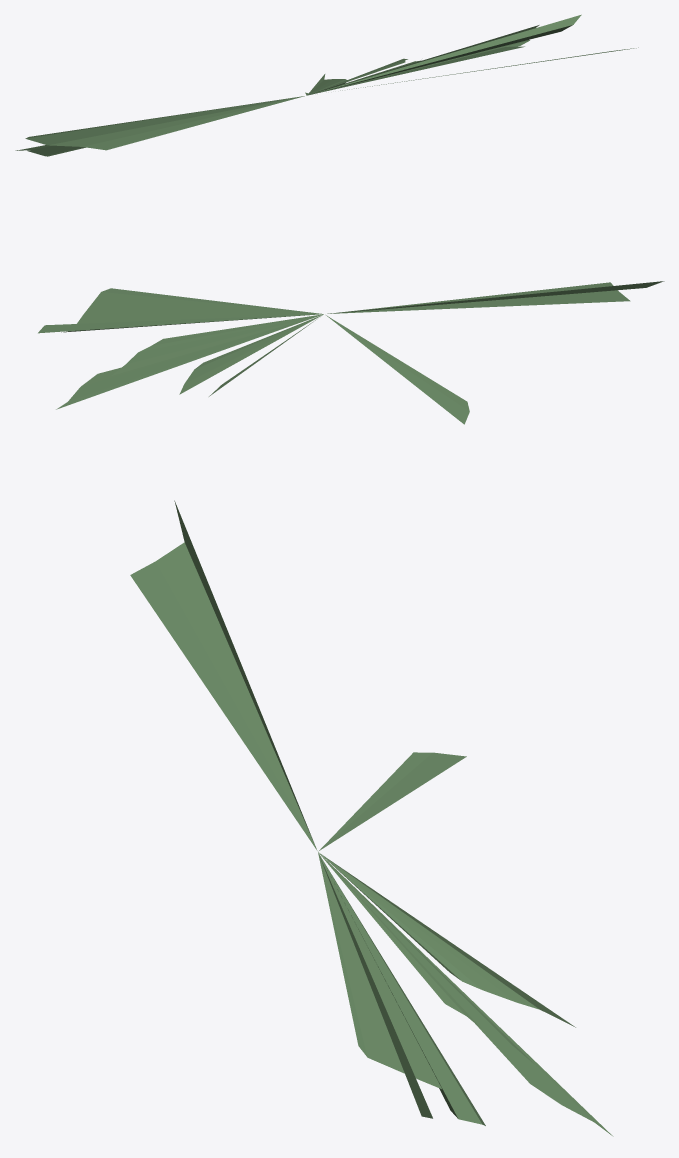
The model's file is c_1670_17835_forest.glb.
3 renders of one model, top to bottom at view 1: azimuth 30°, elevation 25°; view 2: azimuth 150°, elevation 25°; view 3: azimuth 270°, elevation 25°, orthographic. The views are drawn at different scales.
Visible parts, largest first — view 1: geometry_0; view 2: geometry_0; view 3: geometry_0.
Boxes of the visible parts, <box> form: geometry_0: <box>15,14,638,156</box>; geometry_0: <box>38,281,664,424</box>; geometry_0: <box>130,500,613,1136</box>.
Size of the model in its own units: 763 by 186 by 435.
